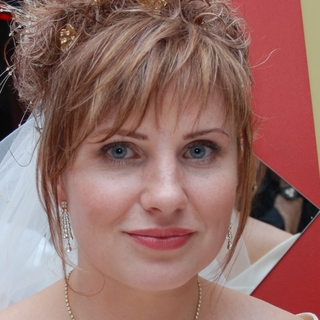eye: (96, 139, 145, 165), (177, 138, 223, 165)
